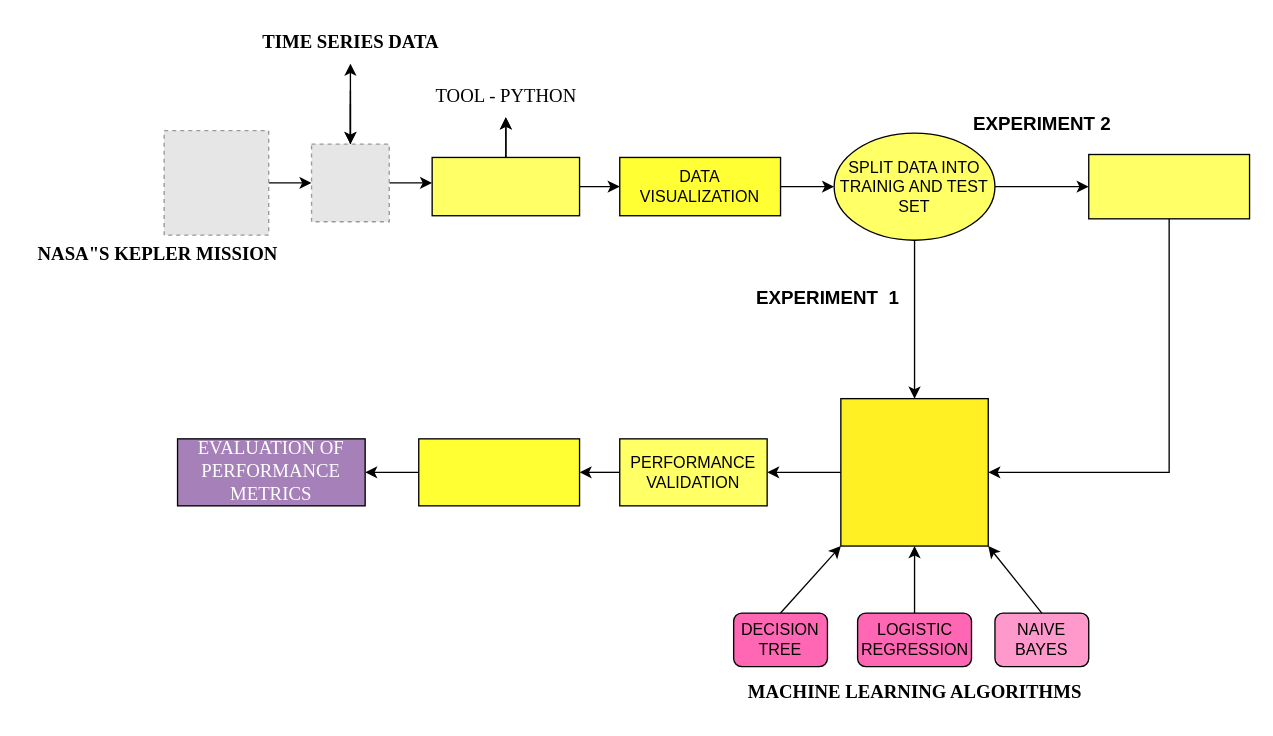
This 1273x736 diagram has some shape labels left out. Grey dashed boxes stand in for pictures. The shapes that lost their labels are listed below. From the top down, each one's centre as x and y in pixels, then its label:
[505,186]: LOADING TIME SERIES DATA
[1168,186]: SMOTE
[498,472]: MAKE PREDICTION
[914,471]: DEFINE ML ARCHITECTURE
